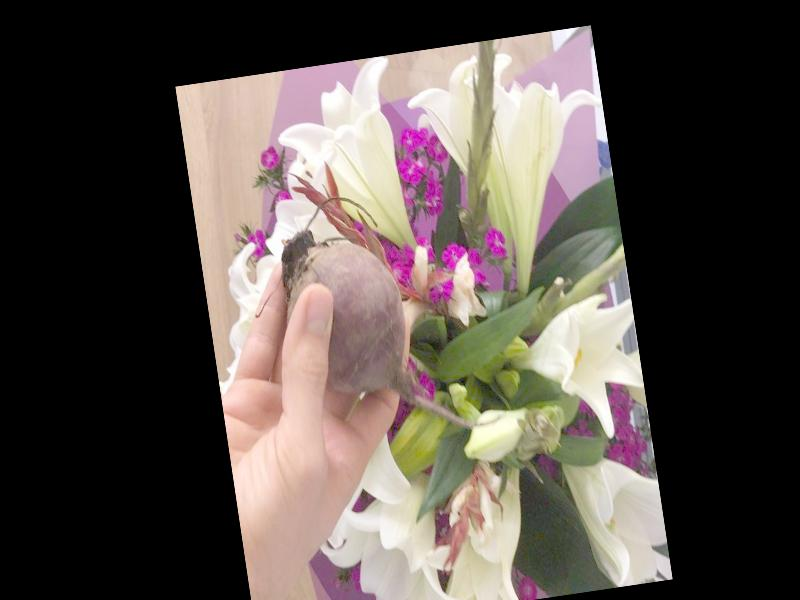Beet: (270, 177, 504, 453)
